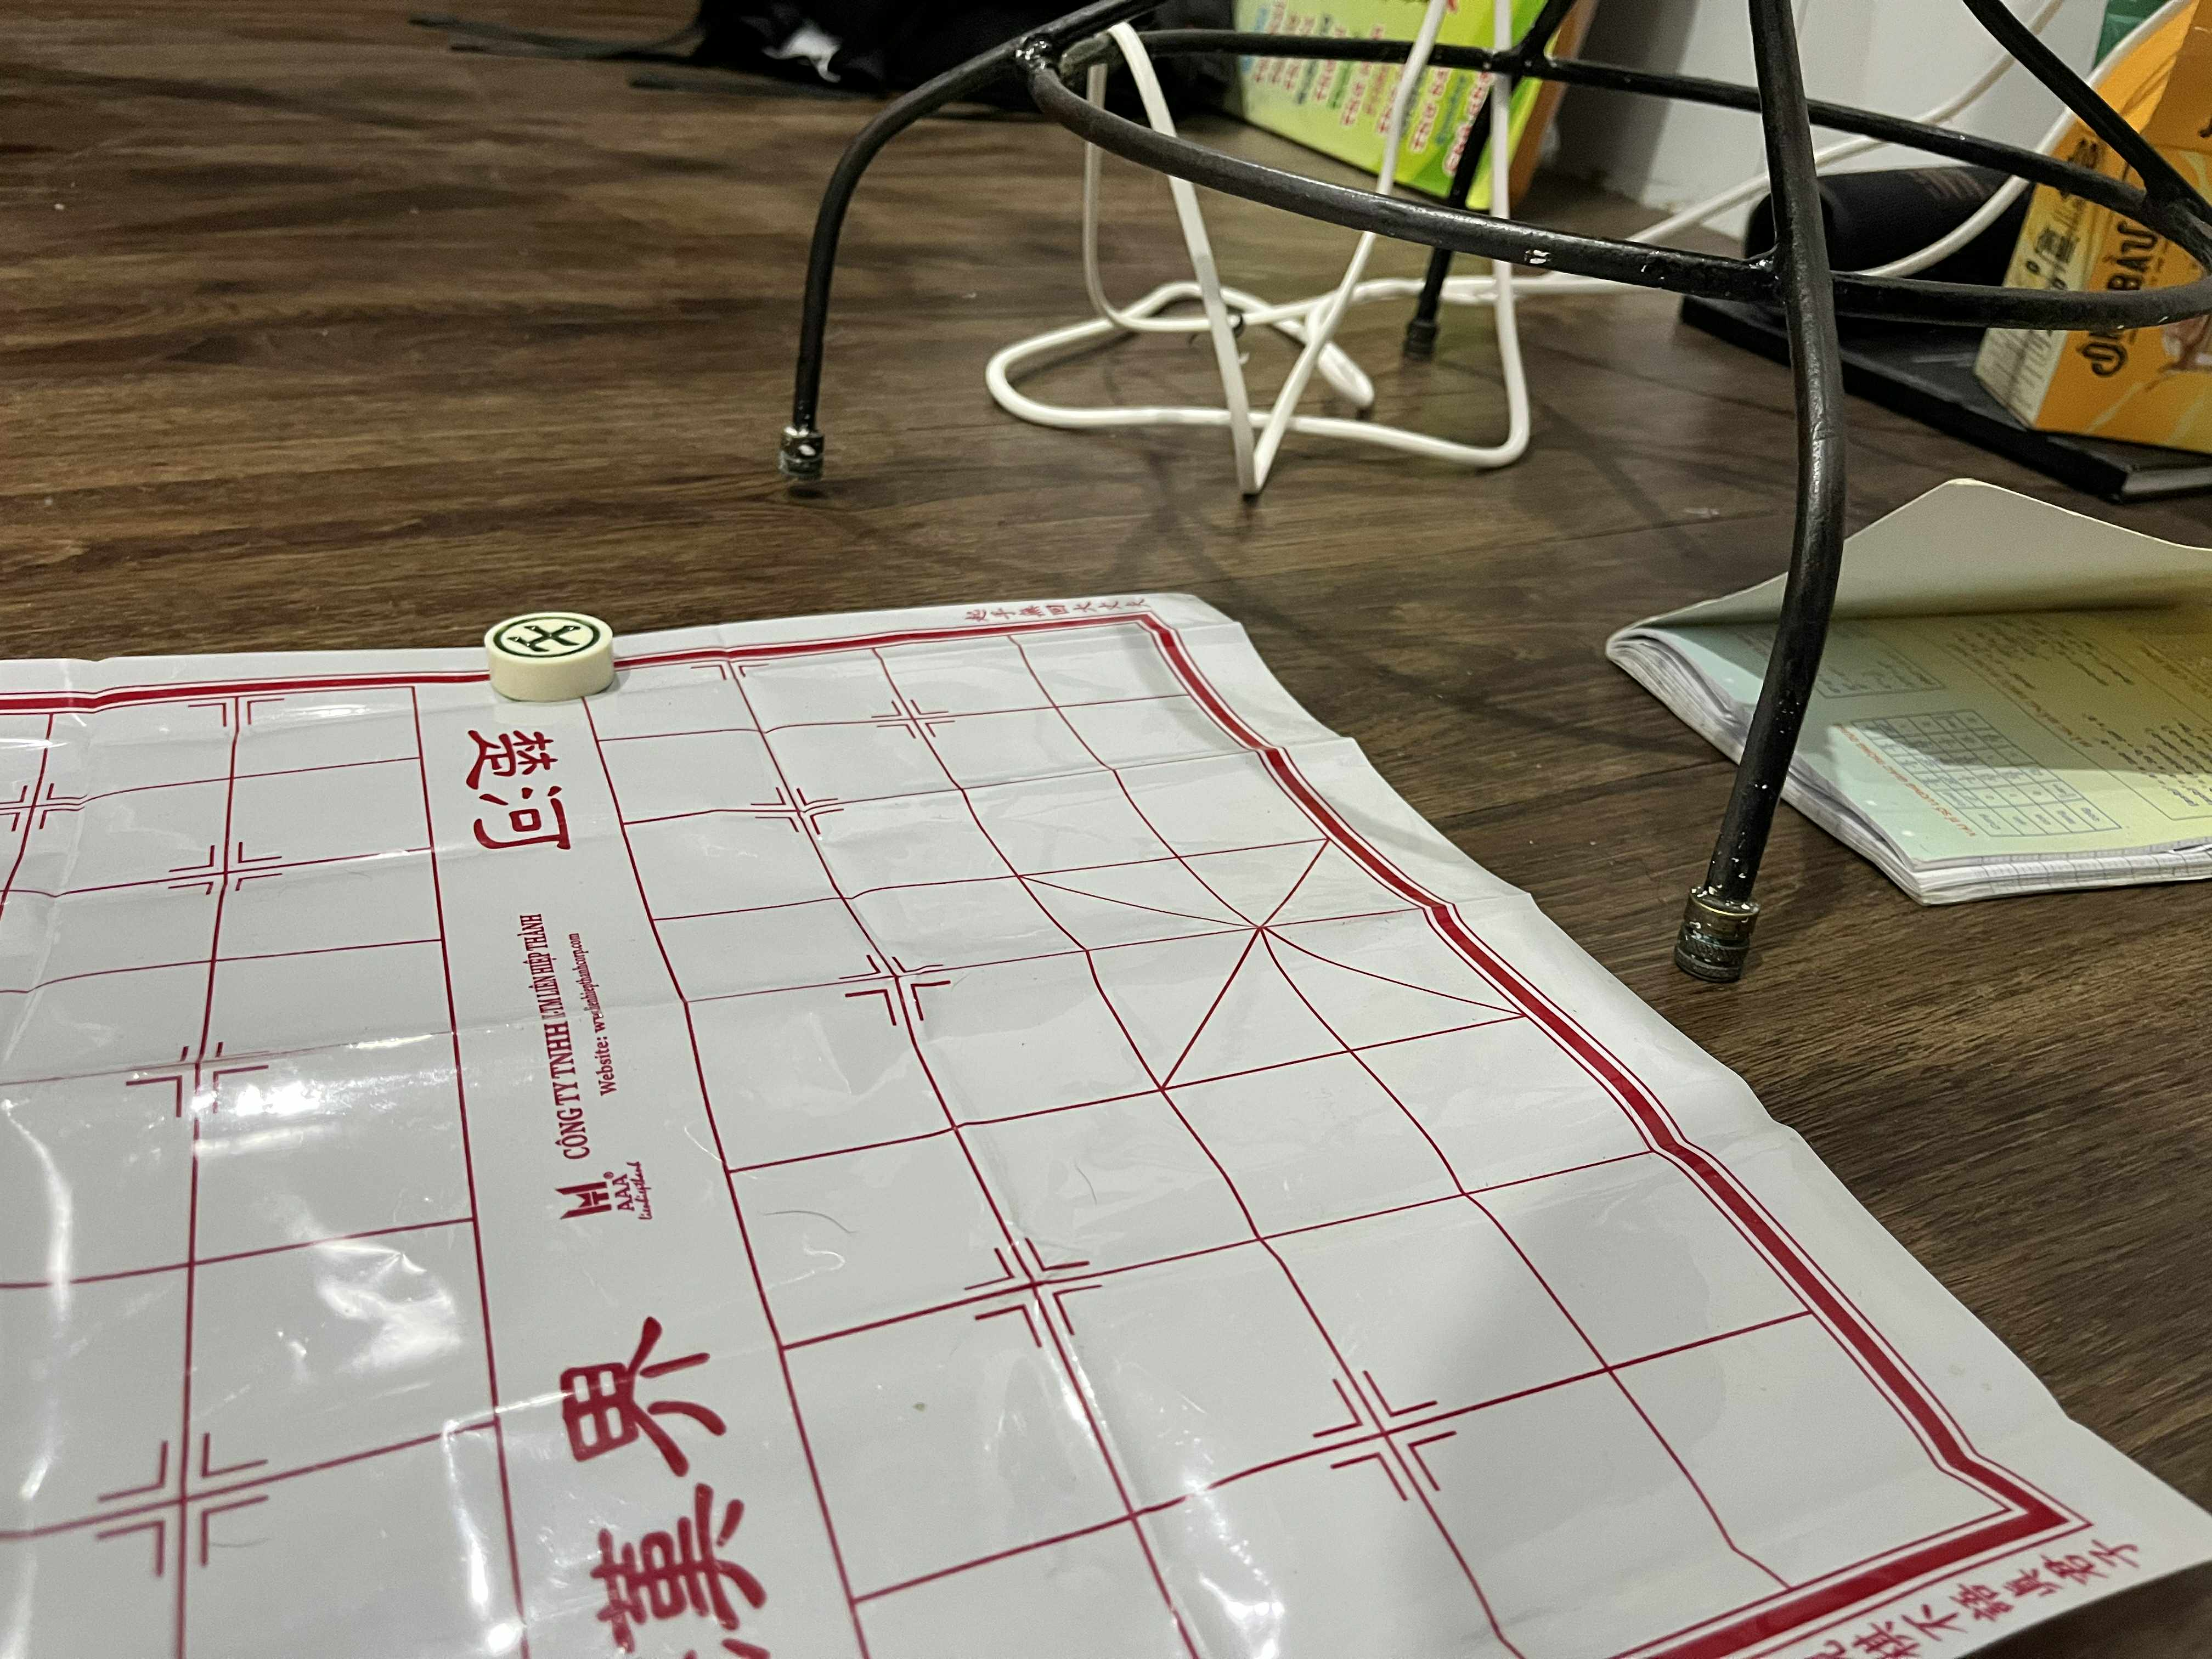black-advisor: (482, 612, 615, 664)
